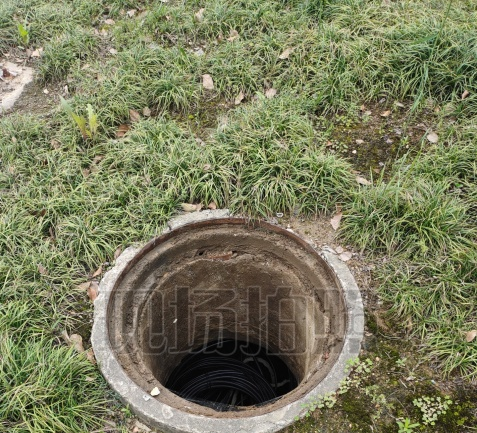well: (92, 210, 360, 431)
